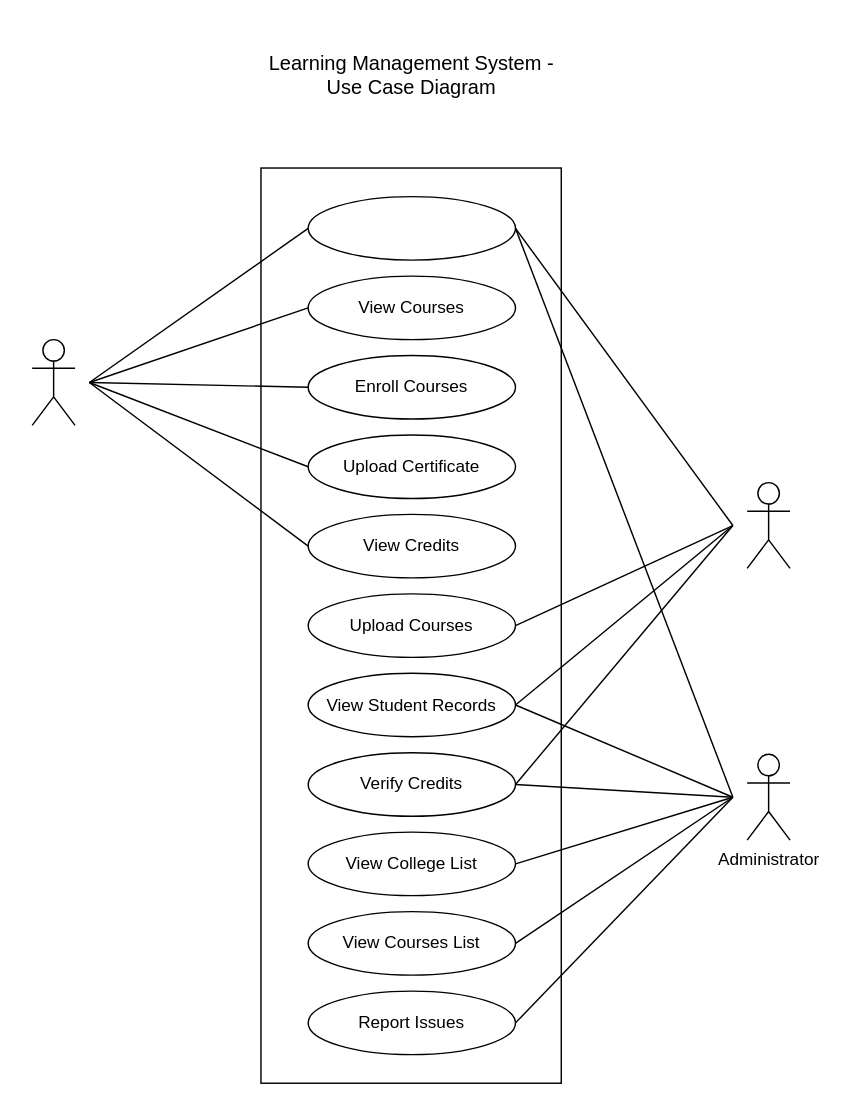
Some shapes in this 844 by 1108 pixel diagram are drawn without their labels. Each missing label, with the centre of its shape:
College Instructor: the point at 768,524
Log In: the point at 411,227
Student: the point at 53,381
